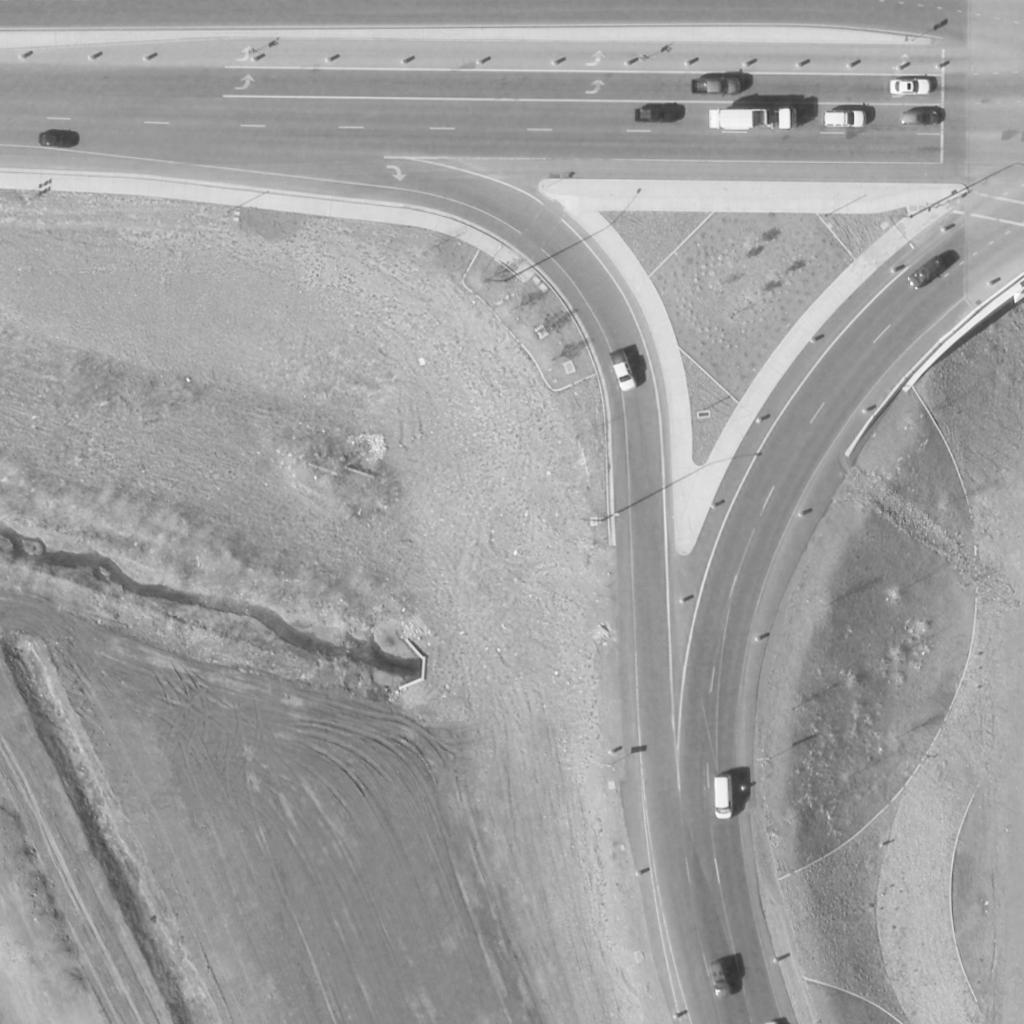vehicle: (707, 104, 799, 134), (907, 254, 949, 294), (606, 349, 638, 391), (709, 959, 737, 999), (636, 104, 686, 126), (899, 107, 947, 127), (713, 775, 733, 819), (820, 110, 868, 128), (687, 81, 747, 95), (889, 80, 933, 98), (35, 131, 81, 147)
